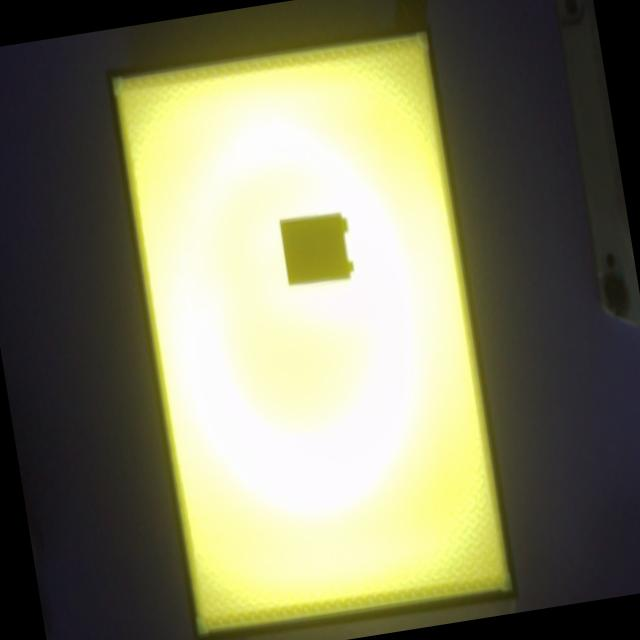bateria: (279, 214, 354, 287)
mesa: (106, 21, 518, 640)
